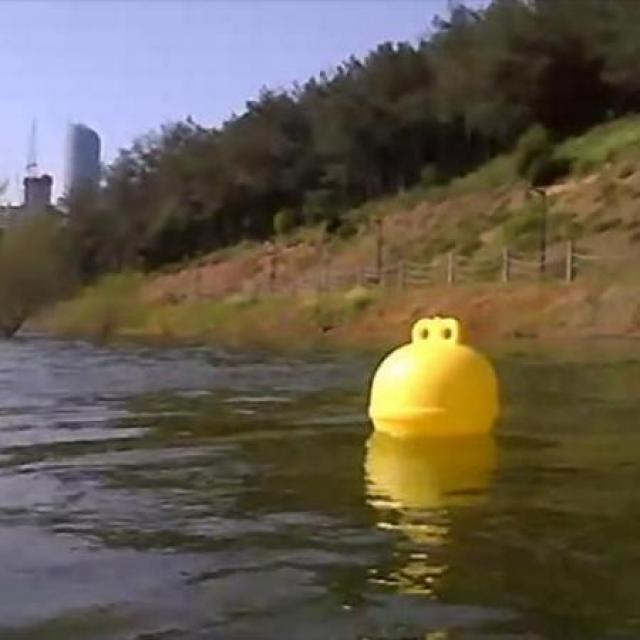buoy: (374, 316, 504, 425)
